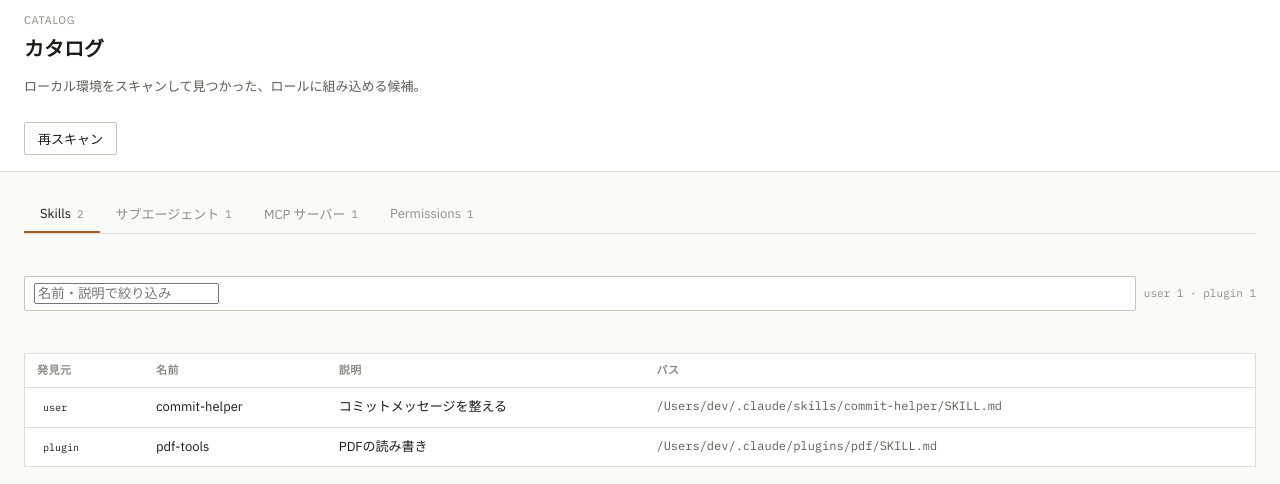
Test: Catalog › shows permission candidates with a compact summary instead of raw JSON
Expected: the text "commit-helper" is shown, x1=144 y1=388 x2=327 y2=427
Step 1. Click the tab "Permissions 1" → (432, 215), box x1=374 y1=196 x2=490 y2=233
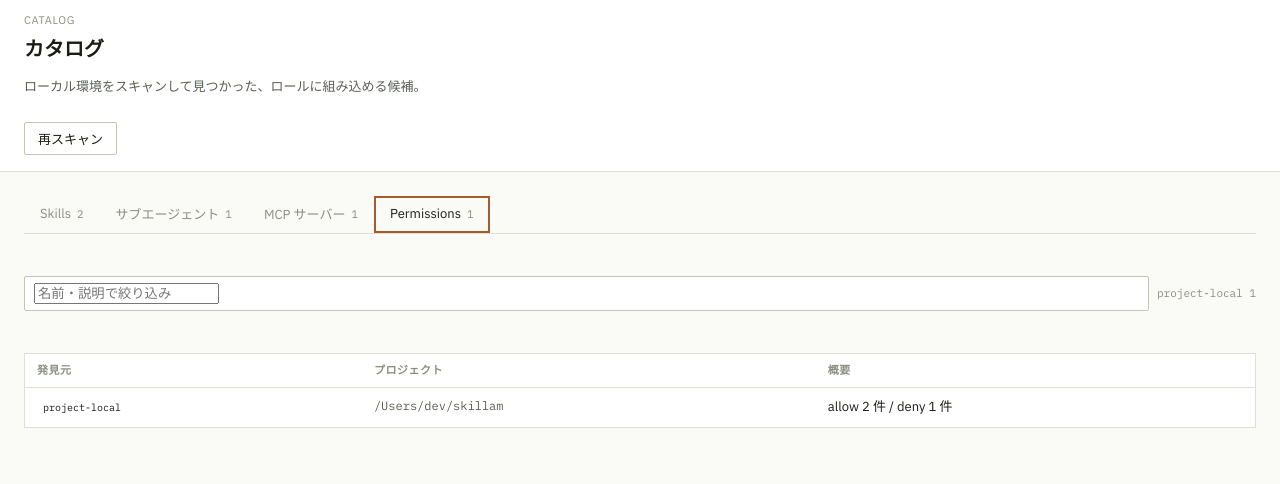
Expected: the text "/Users/dev/skillam" is shown, x1=362 y1=388 x2=816 y2=427
Expected: the text "allow 2 件 / deny 1 件" is shown, x1=816 y1=388 x2=1255 y2=427
